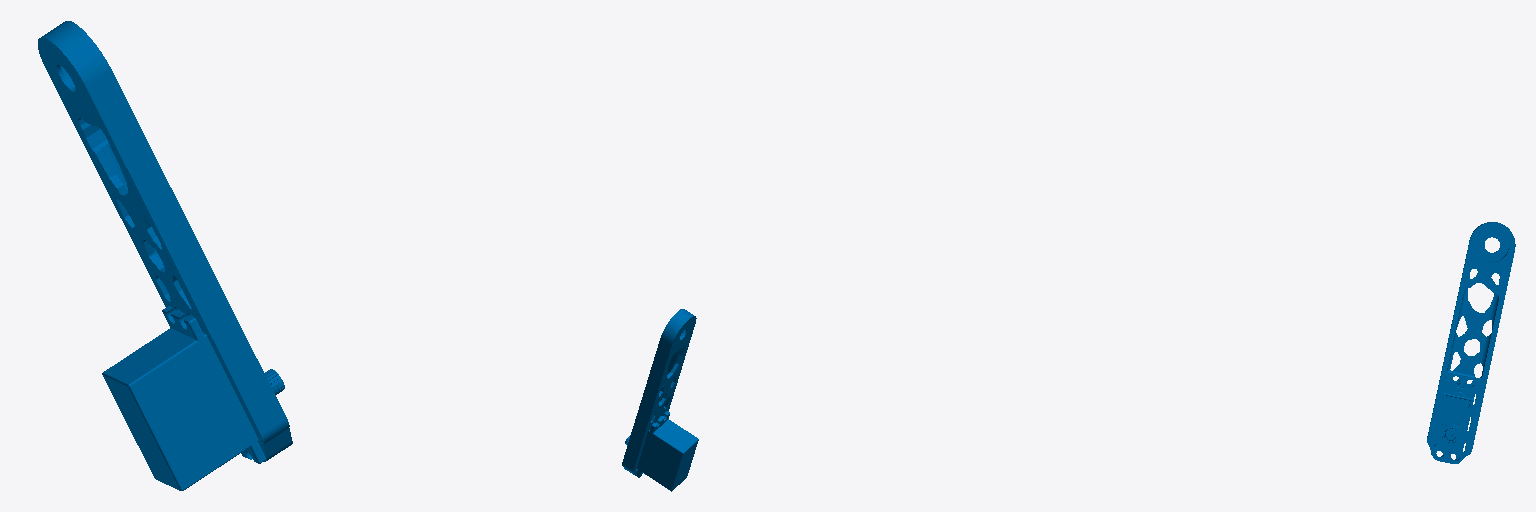
URDF robot description (mrdummy):
<?xml version="1.0" ?>

<robot name="mrdummy">


<!-- ============================================== -->
<!-- |        Robot Joint Controll plugin         | -->
<!-- ============================================== -->
    <gazebo>
        <plugin name="gazebo_ros_control" filename="libgazebo_ros_control.so">
            <robotNamespace>/</robotNamespace>
        </plugin>
    </gazebo>



<!-- ============================================== -->
<!-- |             Mrdummy Base Joint             | -->
<!-- ============================================== -->

	<link name="world" />


 	<link name="base_frame">
        	<visual>
        	    <origin rpy="0 0 0" xyz="0 0 0" />
        	    <geometry>
        	    	<mesh filename="package://description/meshes/base.stl"/>
            	    </geometry>
        	</visual>
        	<collision>
            	    <origin rpy="0 0 0" xyz="0 0 0" />
            	    <geometry>
                	<mesh filename="package://description/meshes/base.stl"/>
            	    </geometry>
        	</collision>
			<inertial>
	     		<origin rpy= "0 0 0" xyz="0 0 0"/>
            		<mass value="17" />
            		<inertia ixx="1.81" iyy="1.55" izz="1.54" ixy="0.0" ixz="-0.33" iyz="-0.03" />
        	</inertial>
        </link>	

	<joint name="world_joint" type="fixed">
    	<parent link="world" />
    	<child link = "base_frame" />
    	<origin xyz="0 0 0" rpy="0 0 0" />
 	</joint>
	
<!-- ============================================== -->
<!-- |                Shoulder1                   | -->
<!-- ============================================== -->

 	<link name="shoulder1">
        	<visual>
        	    <origin rpy="0 0 0" xyz="0 0 0" />
        	    <geometry>
        	    	<mesh filename="package://description/meshes/Shoulder1.stl"/>
            	    </geometry>
        	</visual>
        	<collision>
            	    <origin rpy="0 0 0" xyz="0 0 0" />
            	    <geometry>
                	<mesh filename="package://description/meshes/Shoulder1.stl"/>
            	    </geometry>
        	</collision>
			<inertial>
	     		<origin rpy= "0 0 0" xyz="0 0 0"/>
            		<mass value="0.1" />
            		<inertia ixx="0" iyy="0" izz="0" ixy="0" ixz="0" iyz="0" />
        	</inertial>
        </link>	

	<joint name="shoulder_joint1" type="revolute">
    	<parent link="base_frame" />
    	<child link = "shoulder1" />
    	<origin xyz="0.004 0.009 0.05" rpy="0 0 0" />
    	<axis xyz="0 0 1" />
	<limit effort="10.0" lower="-3.14" upper="3.14" velocity="8.72665" />
 	</joint>
	

<!-- ============================================== -->
<!-- |                    Arm1                    | -->
<!-- ============================================== -->

 	<link name="arm1">
        	<visual>
        	    <origin rpy="0 0 0" xyz="0 0 0" />
        	    <geometry>
        	    	<mesh filename="package://description/meshes/Arm1.stl"/>
            	    </geometry>
        	</visual>
        	<collision>
            	    <origin rpy="0 0 0" xyz="0 0 0" />
            	    <geometry>
                	<mesh filename="package://description/meshes/Arm1.stl"/>
            	    </geometry>
        	</collision>
			<inertial>
	     		<origin rpy= "0 0 0" xyz="0 0 0"/>
            		<mass value="0.1" />
            		<inertia ixx="0" iyy="0" izz="0" ixy="0" ixz="0" iyz="0" />
        	</inertial>
        </link>	

	<joint name="arm1_joint" type="revolute">
    	<parent link="shoulder1" />
    	<child link = "arm1" />
    	<origin xyz="0.03 0.0097 0.0225" rpy="0 0 0" />
    	<axis xyz="1 0 0" />
	<limit effort="10.0" lower="-3.14" upper="3.14" velocity="8.72665" />
 	</joint>




<!-- ============================================== -->
<!-- |                    Arm2                    | -->
<!-- ============================================== -->

 	<link name="arm2">
        	<visual>
        	    <origin rpy="0 0 0" xyz="0 0 0" />
        	    <geometry>
        	    	<mesh filename="package://description/meshes/Arm2.stl"/>
            	    </geometry>
        	</visual>
        	<collision>
            	    <origin rpy="0 0 0" xyz="0 0 0" />
            	    <geometry>
                	<mesh filename="package://description/meshes/Arm2.stl"/>
            	    </geometry>
        	</collision>
			<inertial>
	     		<origin rpy= "0 0 0" xyz="0 0 0"/>
            		<mass value="0.1" />
            		<inertia ixx="0" iyy="0" izz="0" ixy="0" ixz="0" iyz="0" />
        	</inertial>
        </link>	

	<joint name="arm2_joint" type="revolute">
    	<parent link="arm1" />
    	<child link = "arm2" />
    	<origin xyz="0.015 0 0.125" rpy="0 0 0" />
    	<axis xyz="1 0 0" />
	<limit effort="10.0" lower="-3.14" upper="3.14" velocity="8.72665" />
 	</joint>


<!-- ============================================== -->
<!-- |                    wrist1                  | -->
<!-- ============================================== -->

 	<link name="wrist1">
        	<visual>
        	    <origin rpy="0 0 0" xyz="0 0 0" />
        	    <geometry>
        	    	<mesh filename="package://description/meshes/wrist1.stl"/>
            	    </geometry>
        	</visual>
        	<collision>
            	    <origin rpy="0 0 0" xyz="0 0 0" />
            	    <geometry>
                	<mesh filename="package://description/meshes/wrist1.stl"/>
            	    </geometry>
        	</collision>
			<inertial>
	     		<origin rpy= "0 0 0" xyz="0 0 0"/>
            		<mass value="0.1" />
            		<inertia ixx="0" iyy="0" izz="0" ixy="0" ixz="0" iyz="0" />
        	</inertial>
        </link>	

	<joint name="wirst1_joint" type="revolute">
    	<parent link="arm2" />
    	<child link = "wrist1" />
    	<origin xyz="0.015 0 0.125" rpy="0 0 0" />
    	<axis xyz="1 0 0" />
	<limit effort="10.0" lower="-3.14" upper="3.14" velocity="8.72665" />
 	</joint>




<!-- ============================================== -->
<!-- |                    wrist2                  | -->
<!-- ============================================== -->

 	<link name="wrist2">
        	<visual>
        	    <origin rpy="0 0 0" xyz="0 0 0" />
        	    <geometry>
        	    	<mesh filename="package://description/meshes/wrist2.stl"/>
            	    </geometry>
        	</visual>
        	<collision>
            	    <origin rpy="0 0 0" xyz="0 0 0" />
            	    <geometry>
                	<mesh filename="package://description/meshes/wrist2.stl"/>
            	    </geometry>
        	</collision>
			<inertial>
	     		<origin rpy= "0 0 0" xyz="0 0 0"/>
            		<mass value="0.1" />
            		<inertia ixx="0" iyy="0" izz="0" ixy="0" ixz="0" iyz="0" />
        	</inertial>
        </link>	

	<joint name="wirst2_joint" type="revolute">
    	<parent link="wrist1" />
    	<child link = "wrist2" />
    	<origin xyz="0.0237 -0.03 0.00025" rpy="-1.5708 0 0" />
    	<axis xyz="0 0 1" />
	<limit effort="10.0" lower="-3.14" upper="3.14" velocity="8.72665" />
 	</joint>






    <transmission name="trans_shoulder_joint1">
        <type>transmission_interface/SimpleTransmission</type>
        <joint name="shoulder_joint1">
            <hardwareInterface>hardware_interface/VelocityJointInterface</hardwareInterface>
        </joint>
        <actuator name="shoulder_joint1_motor">
            <hardwareInterface>hardware_interface/VelocityJointInterface</hardwareInterface>
            <mechanicalReduction>1</mechanicalReduction>
        </actuator>
    </transmission>
    <transmission name="trans_arm1_joint">
        <type>transmission_interface/SimpleTransmission</type>
        <joint name="arm1_joint">
            <hardwareInterface>hardware_interface/VelocityJointInterface</hardwareInterface>
        </joint>
        <actuator name="arm1_joint_motor">
            <hardwareInterface>hardware_interface/VelocityJointInterface</hardwareInterface>
            <mechanicalReduction>1</mechanicalReduction>
        </actuator>
    </transmission>
    <transmission name="trans_arm2_joint">
        <type>transmission_interface/SimpleTransmission</type>
        <joint name="arm2_joint">
            <hardwareInterface>hardware_interface/VelocityJointInterface</hardwareInterface>
        </joint>
        <actuator name="arm2_joint_motor">
            <hardwareInterface>hardware_interface/VelocityJointInterface</hardwareInterface>
            <mechanicalReduction>1</mechanicalReduction>
        </actuator>
    </transmission>
    <transmission name="trans_wirst1_joint">
        <type>transmission_interface/SimpleTransmission</type>
        <joint name="wirst1_joint">
            <hardwareInterface>hardware_interface/VelocityJointInterface</hardwareInterface>
        </joint>
        <actuator name="wirst1_joint_motor">
            <hardwareInterface>hardware_interface/VelocityJointInterface</hardwareInterface>
            <mechanicalReduction>1</mechanicalReduction>
        </actuator>
    </transmission>
    <transmission name="trans_wirst2_joint">
        <type>transmission_interface/SimpleTransmission</type>
        <joint name="wirst2_joint">
            <hardwareInterface>hardware_interface/VelocityJointInterface</hardwareInterface>
        </joint>
        <actuator name="wirst2_joint_motor">
            <hardwareInterface>hardware_interface/VelocityJointInterface</hardwareInterface>
            <mechanicalReduction>1</mechanicalReduction>
        </actuator>
    </transmission>

</robot>

--- Render facts (derived) ---
3 views of the same robot in one strip: view 1: azimuth 30°, elevation 25°; view 2: azimuth 150°, elevation 25°; view 3: azimuth 270°, elevation 25° (orthographic).
Robot: mrdummy — 7 links, 6 joints (5 revolute, 1 fixed); root link world; default pose: all joints at 0.
Visible links, largest first — view 1: arm2; view 2: arm2; view 3: arm2.
Boxes of the visible links, bbox=[...] form: arm2: bbox=[38, 21, 292, 490]; arm2: bbox=[622, 309, 698, 491]; arm2: bbox=[1427, 222, 1515, 463].
Size in the robot's own frame: 82.23 by 304 by 266 metres.
Meshes: 6 distinct files referenced, 6 mesh visuals loaded (6 binary STL).
